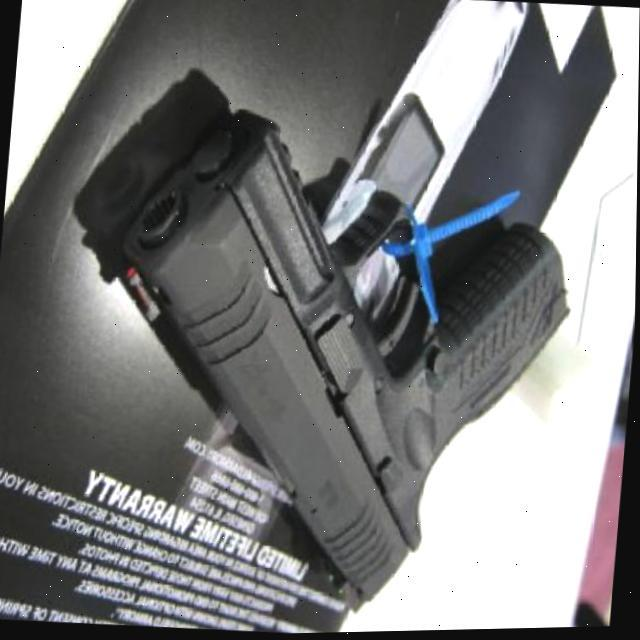gun: (94, 100, 586, 632)
